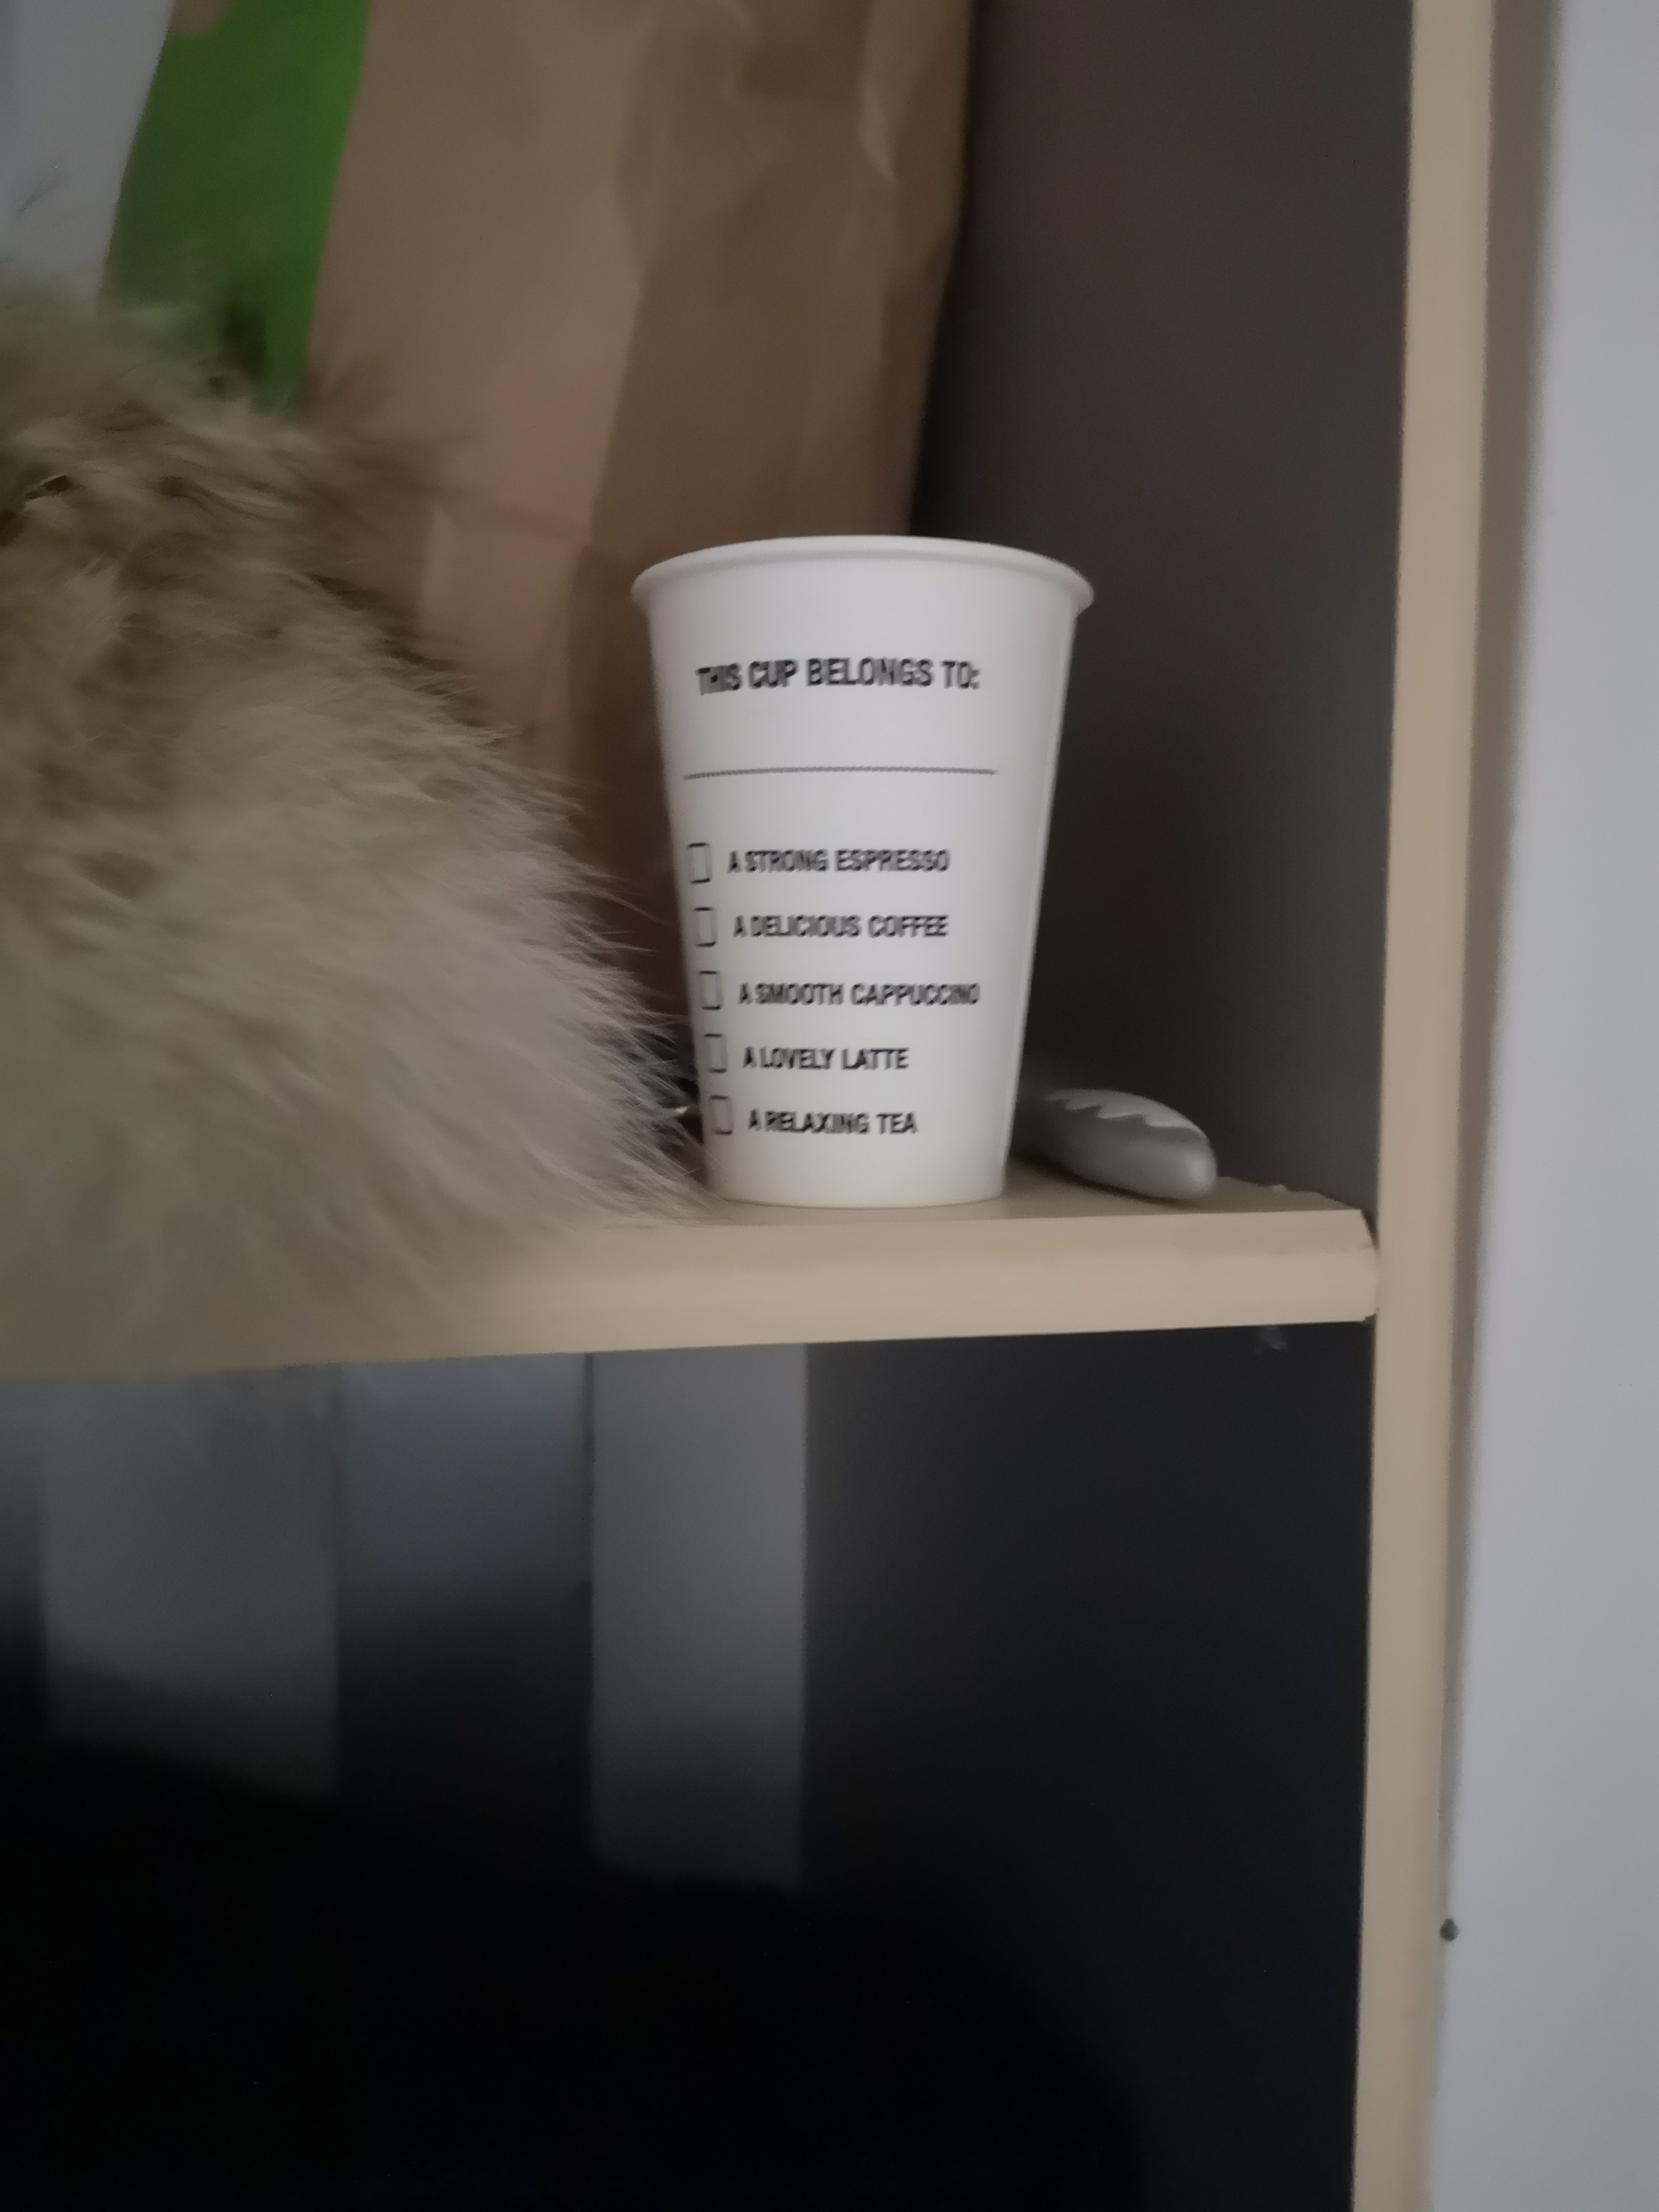cup: (596, 503, 1122, 1252)
